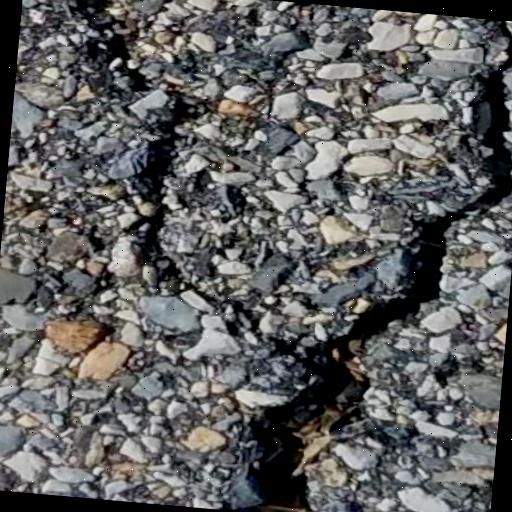spalling: (229, 33, 512, 512)
